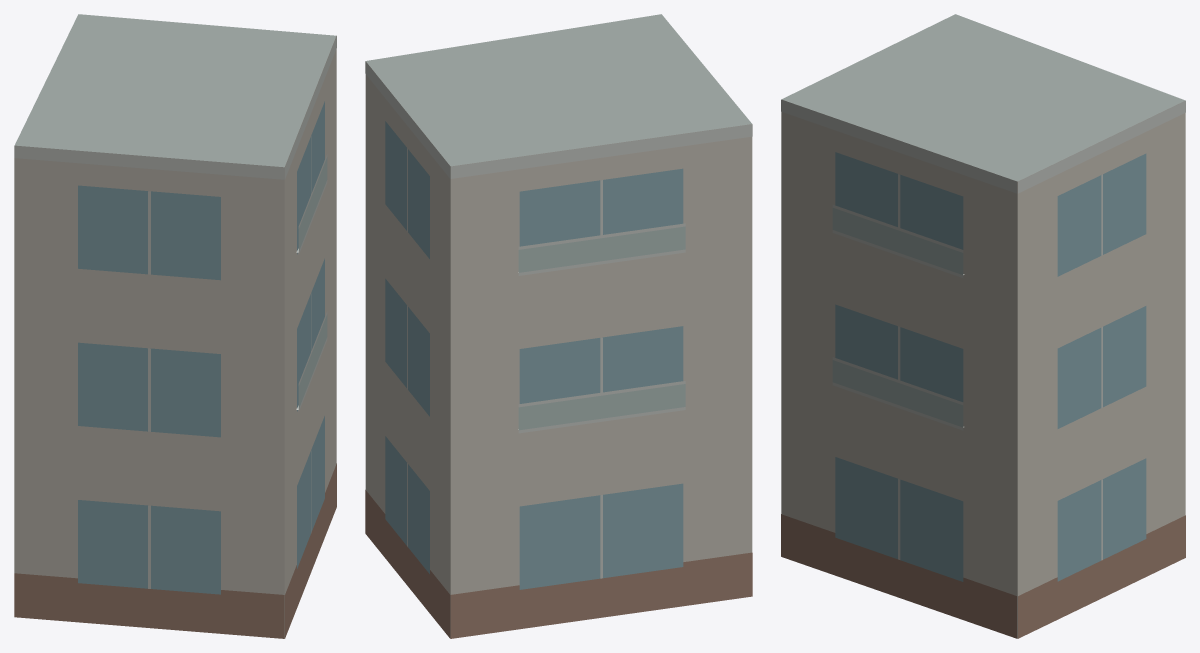
Rendered from survey-upis-32476189.glb.
3 views of the same model, side by side, from view 1: azimuth 30°, elevation 25°; view 2: azimuth 150°, elevation 25°; view 3: azimuth 270°, elevation 25° (orthographic). The views are drawn at different scales.
Parts seen in each view (by area): view 1: survey-upis-32476189.tmp; view 2: survey-upis-32476189.tmp; view 3: survey-upis-32476189.tmp.
Boxes of the visible parts, bbox=[...] form: survey-upis-32476189.tmp: bbox=[14, 14, 336, 638]; survey-upis-32476189.tmp: bbox=[365, 14, 752, 638]; survey-upis-32476189.tmp: bbox=[781, 14, 1185, 638].
Bounding box in the file's own units: 7.2 × 9.15 × 7.34.
